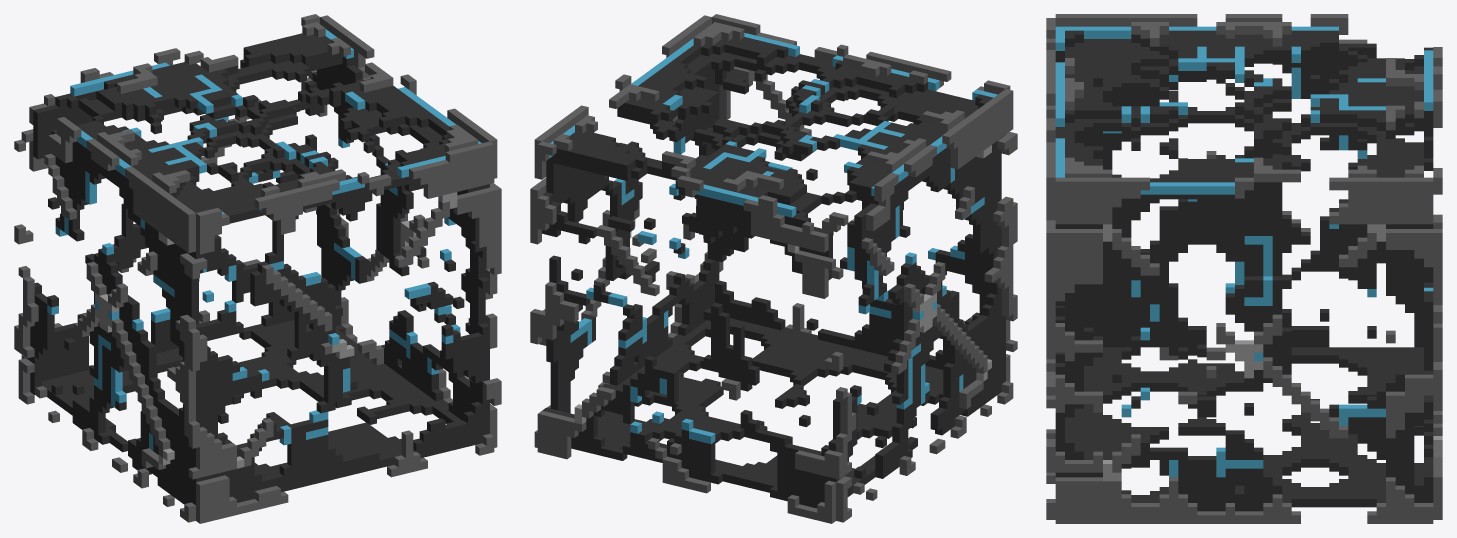
The model's file is space_crate_die2.obj.
3 renders of one model, left to right at view 1: azimuth 30°, elevation 25°; view 2: azimuth 150°, elevation 25°; view 3: azimuth 270°, elevation 25°, orthographic. The views are drawn at different scales.
Parts seen in each view (by area): view 1: space_crate_die2; view 2: space_crate_die2; view 3: space_crate_die2.
Part boxes in pixels (x1,y1,x2,y2): space_crate_die2: (14,14,501,523); space_crate_die2: (530,14,1017,523); space_crate_die2: (1046,14,1442,523).
Bounding box in the file's own units: 42 × 40 × 42.
Materials: 1 (1 with a texture image).
